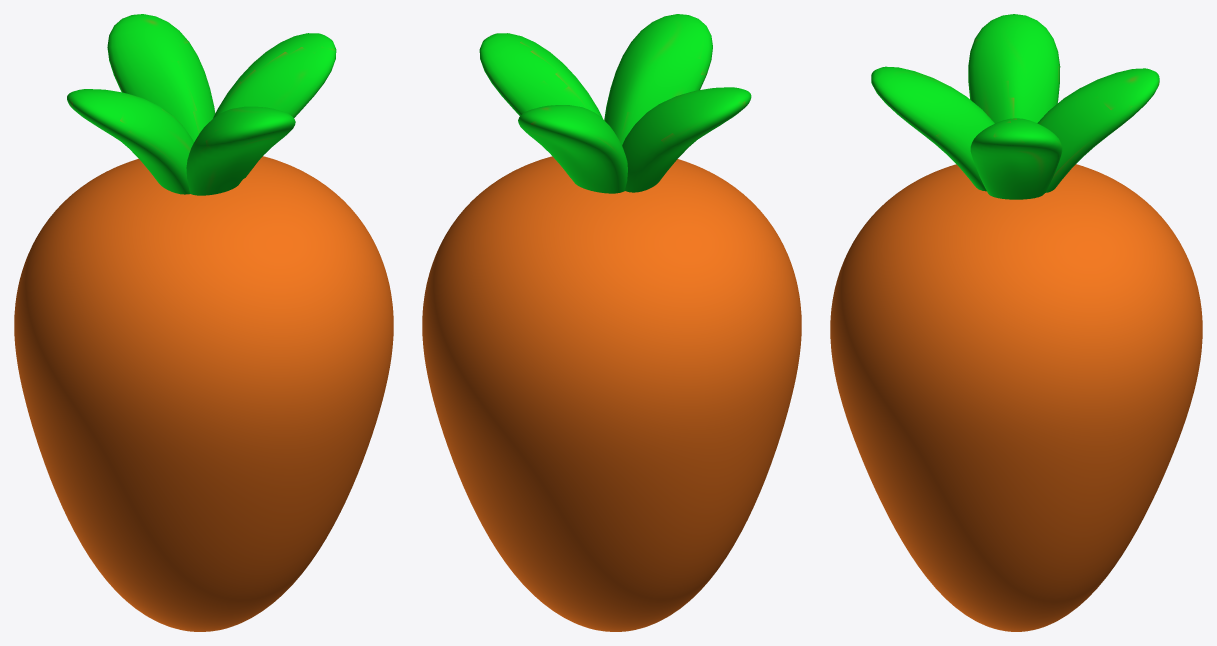
The model's file is zanahoria.fbx.
The picture shows the model from 3 angles, left to right: view 1: azimuth 30°, elevation 25°; view 2: azimuth 150°, elevation 25°; view 3: azimuth 270°, elevation 25°; orthographic projection.
Visible parts, largest first — view 1: zanahoria.001; view 2: zanahoria.001; view 3: zanahoria.001.
Part boxes in pixels (left/top/right/bottom): zanahoria.001: left=14, top=14, right=393, bottom=631; zanahoria.001: left=422, top=14, right=801, bottom=631; zanahoria.001: left=830, top=14, right=1202, bottom=631.
Size of the model in its own units: 198 by 322 by 197.
1 material, 1 textured.
